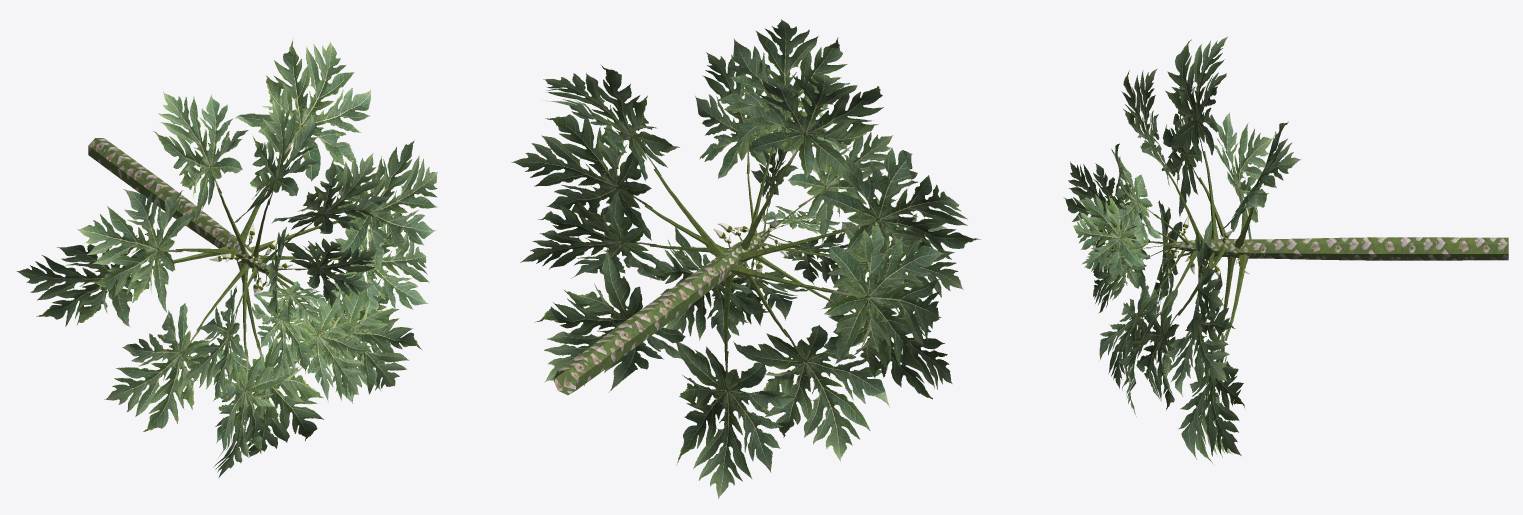
3 renders of one model, left to right at view 1: azimuth 30°, elevation 25°; view 2: azimuth 150°, elevation 25°; view 3: azimuth 270°, elevation 25°, orthographic. The views are drawn at different scales.
Parts seen in each view (by area): view 1: FR01y; view 2: FR01y; view 3: FR01y.
Part boxes in pixels (left/top/right/bottom): FR01y: left=16, top=38, right=437, bottom=478; FR01y: left=511, top=19, right=980, bottom=499; FR01y: left=1063, top=36, right=1508, bottom=465.
Bounding box in the file's own units: 2.19 × 2.09 × 2.14.
4 materials, 4 textured.
